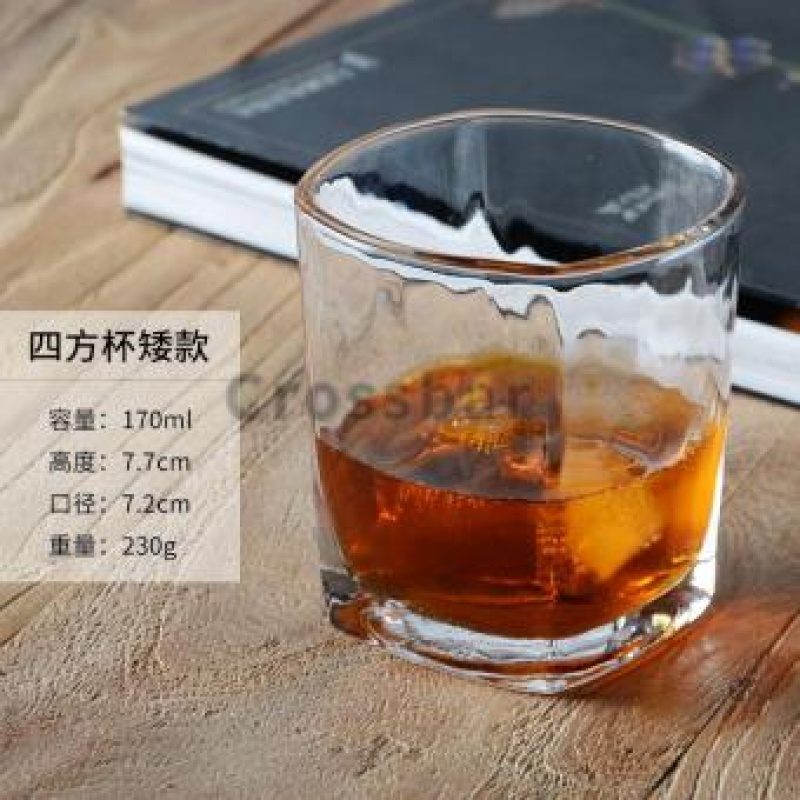whiskey: (295, 113, 754, 682)
